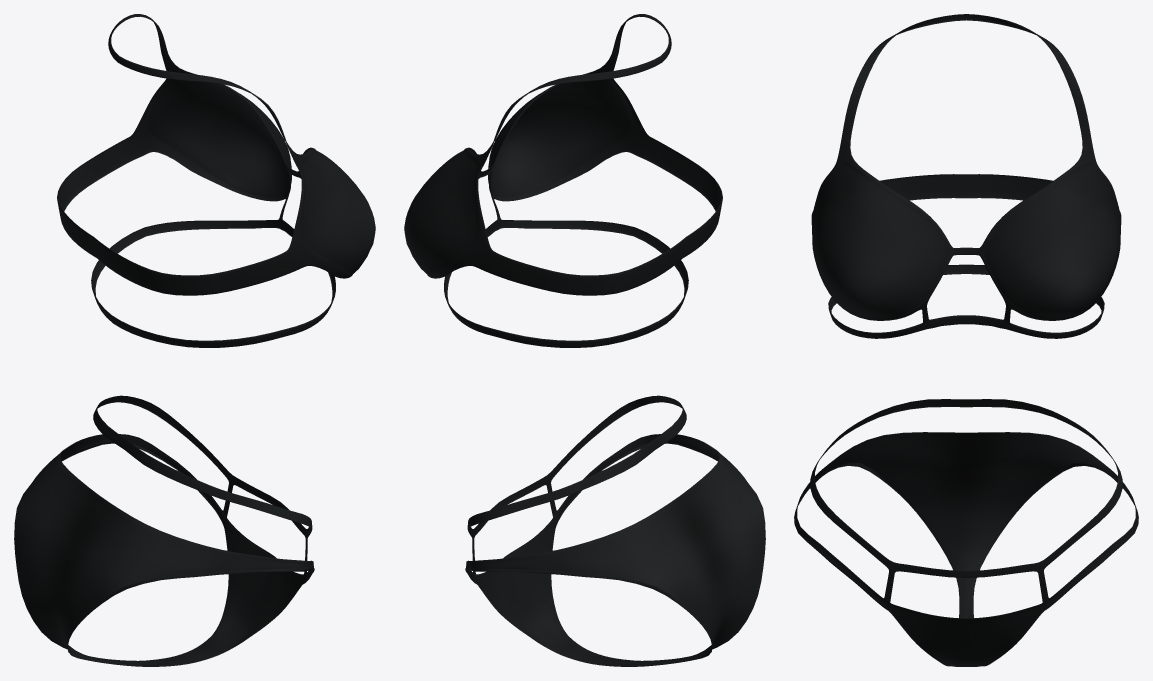
The picture shows the model from 3 angles, left to right: view 1: azimuth 30°, elevation 25°; view 2: azimuth 150°, elevation 25°; view 3: azimuth 270°, elevation 25°; orthographic projection.
Visible parts, largest first — view 1: BikiniSet; view 2: BikiniSet; view 3: BikiniSet.
Boxes of the visible parts, bbox=[...] form: BikiniSet: bbox=[14, 14, 375, 666]; BikiniSet: bbox=[404, 14, 765, 666]; BikiniSet: bbox=[794, 14, 1138, 666].
Bounding box in the file's own units: 0.3147 × 0.6711 × 0.3433.
1 material, 1 textured.
